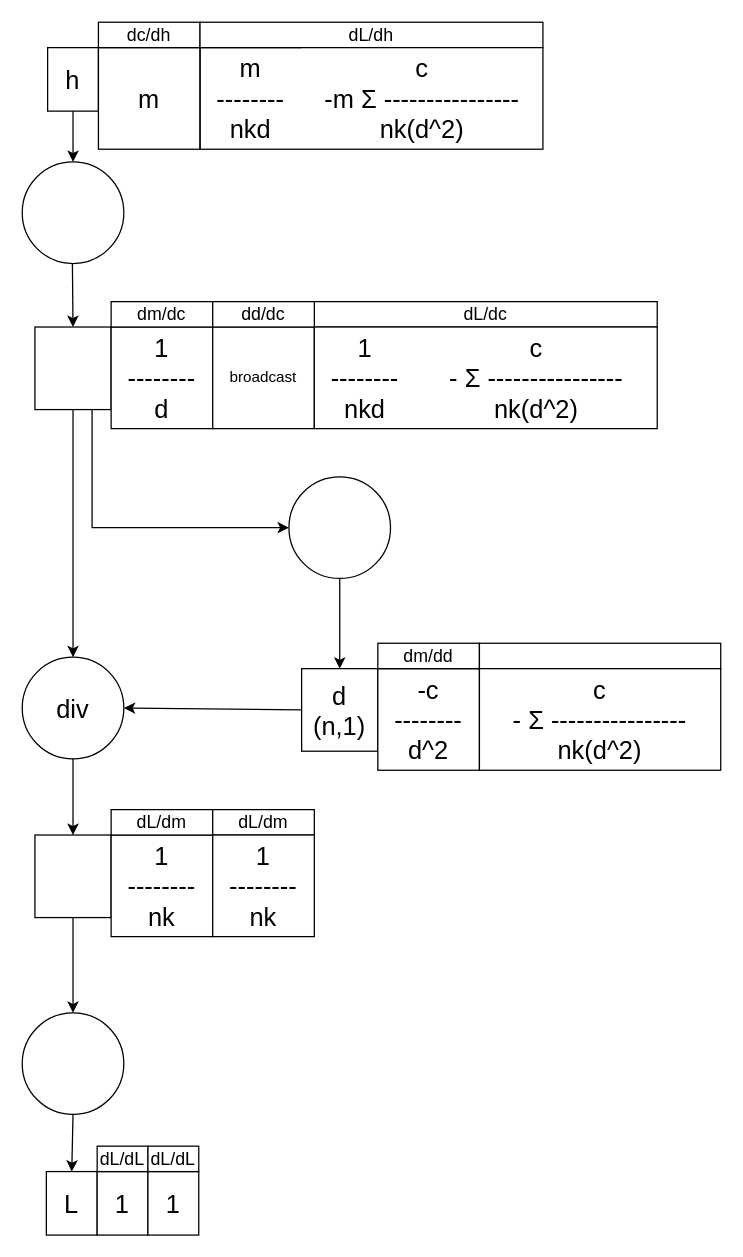
Some shapes in this 743 by 1257 pixel diagram are drawn without their labels. Each missing label, with the centre of its shape:
c (n,k): point (72, 368)
dL/dd: point (599, 655)
exp: point (72, 212)
m (n,k): point (72, 876)
mean: point (72, 1063)
reduce add: point (339, 527)
